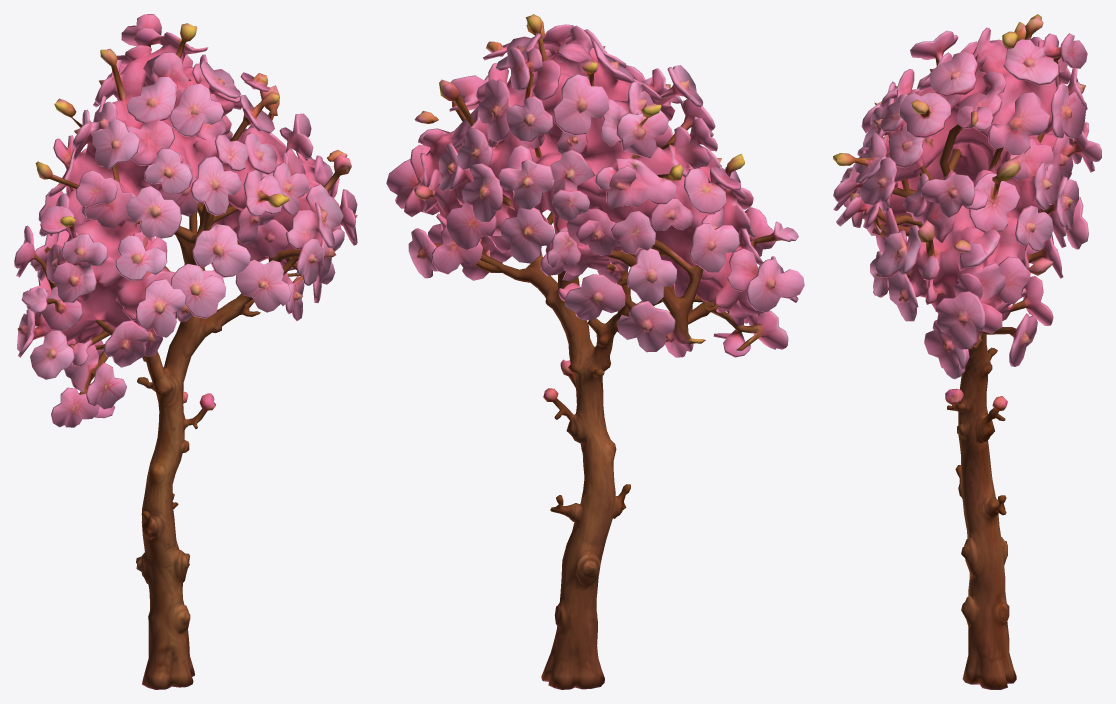
The model's file is blossom_sapling.glb.
3 renders of one model, left to right at view 1: azimuth 30°, elevation 25°; view 2: azimuth 150°, elevation 25°; view 3: azimuth 270°, elevation 25°, orthographic. The views are drawn at different scales.
Visible parts, largest first — view 1: tripo_node_56bbadcc-da56-4af0-bb94-d1ed2d71230e; view 2: tripo_node_56bbadcc-da56-4af0-bb94-d1ed2d71230e; view 3: tripo_node_56bbadcc-da56-4af0-bb94-d1ed2d71230e.
Boxes of the visible parts, box(x1,y1,x2,y2) form: tripo_node_56bbadcc-da56-4af0-bb94-d1ed2d71230e: box(14, 14, 357, 689); tripo_node_56bbadcc-da56-4af0-bb94-d1ed2d71230e: box(386, 14, 804, 689); tripo_node_56bbadcc-da56-4af0-bb94-d1ed2d71230e: box(833, 14, 1101, 689).
Bounding box in the file's own units: 0.5919 × 0.9789 × 0.3621.
Materials: 1 (1 with a texture image).
